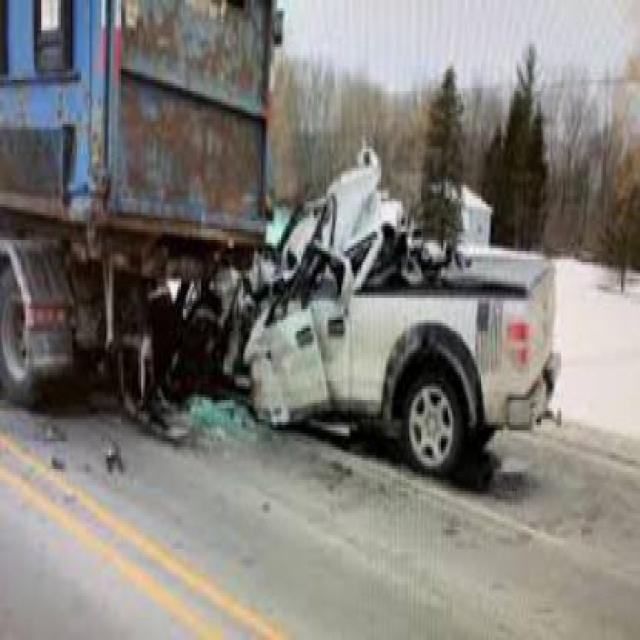accident: (6, 0, 579, 486)
